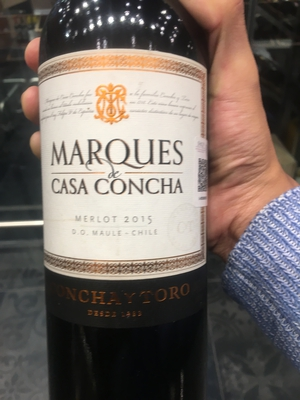marques de casa concha merlot: (31, 14, 249, 400)
